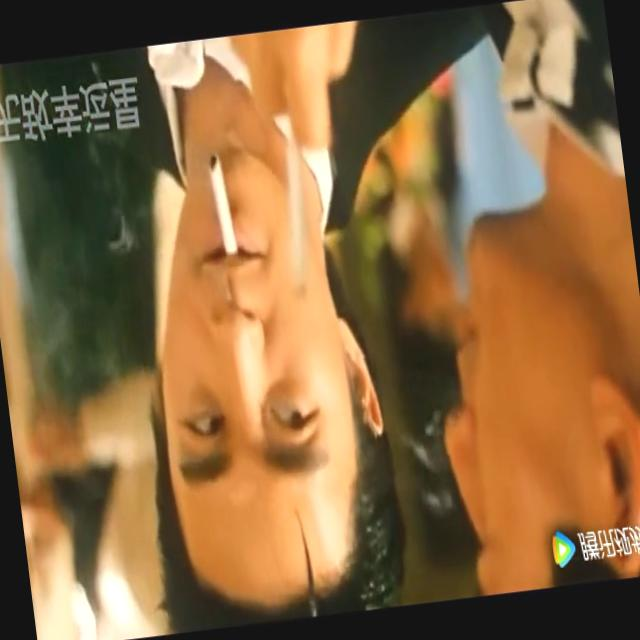cigarette: (270, 127, 320, 300), (199, 146, 244, 264)
